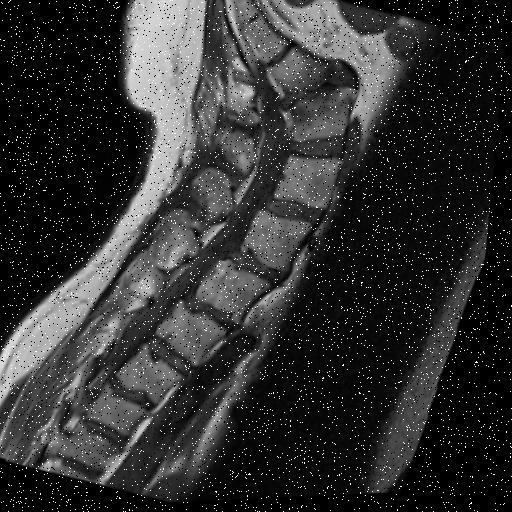L1: (161, 300, 232, 366)
L2: (201, 261, 277, 324)
L3: (245, 211, 316, 272)
L4: (277, 155, 345, 209)
L5: (292, 89, 361, 142)
S1: (269, 48, 330, 95)
